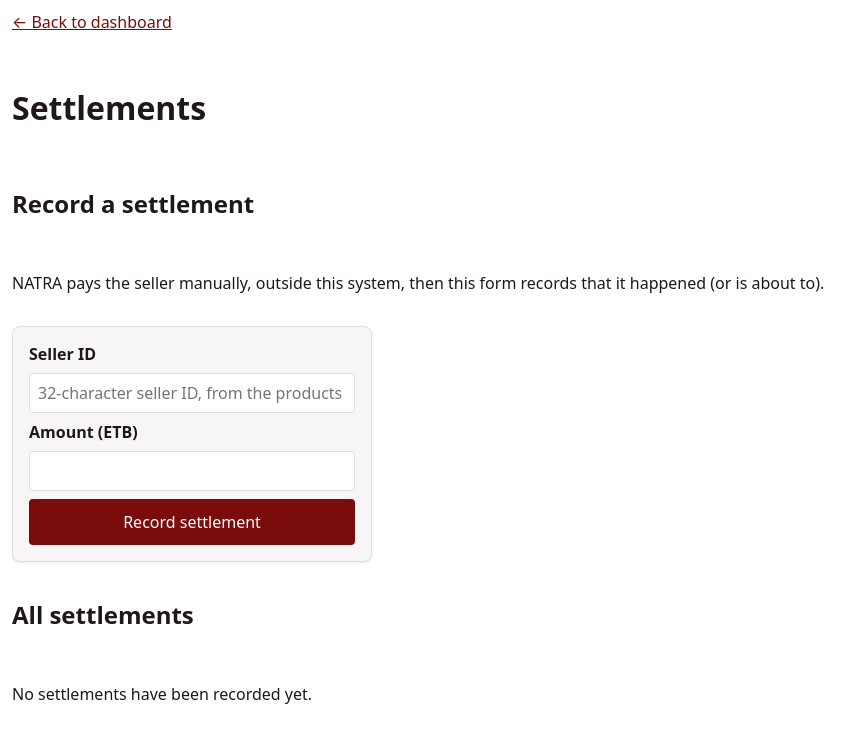
Test case: AdminSettlements › shows the backend's message when recording a settlement fails (non-auth error)
Expected: the text "No settlements have been recorded yet." is shown, 12,682 -> 312,704
Type "seller-1" into the field labelled "Seller ID". click: (192, 393)
box: 29,373 -> 355,413
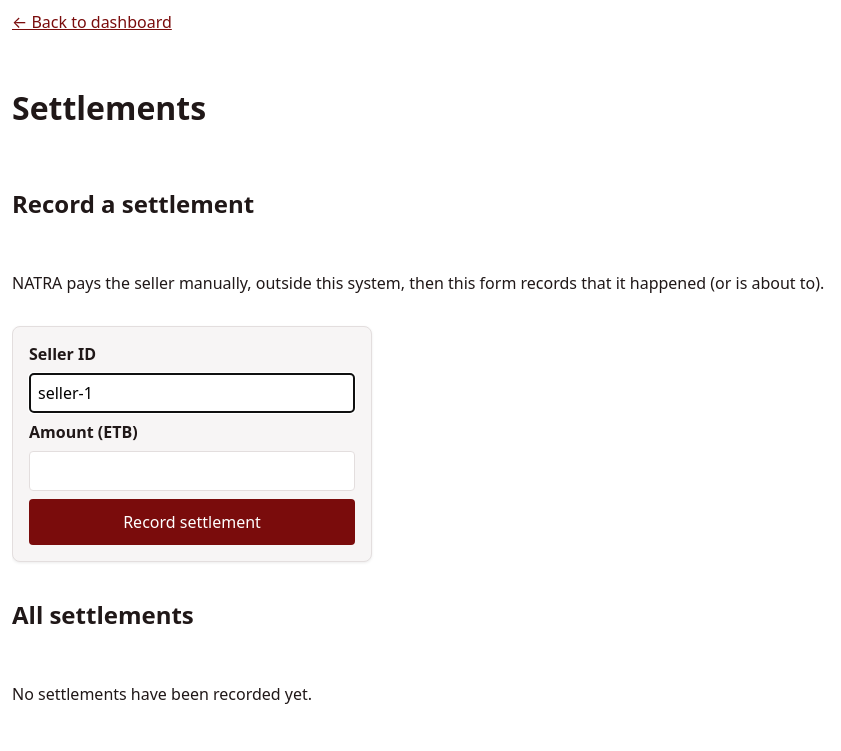
Type "450" into the number field labelled "Amount (ETB)". click: (192, 471)
box: 29,451 -> 355,491
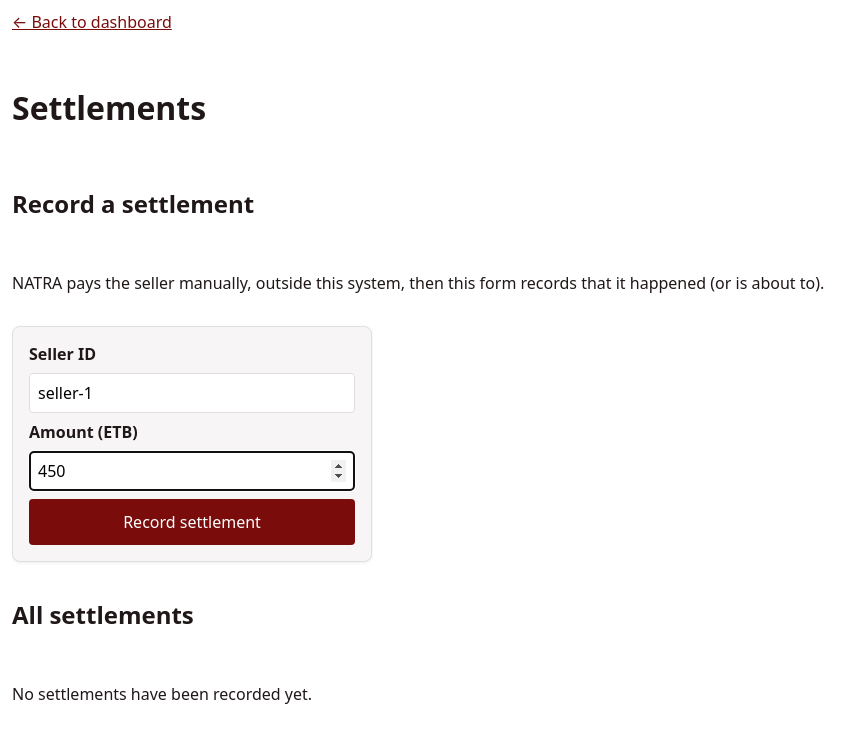
Click the button "Record settlement". click: (192, 522)
box: 29,499 -> 355,545
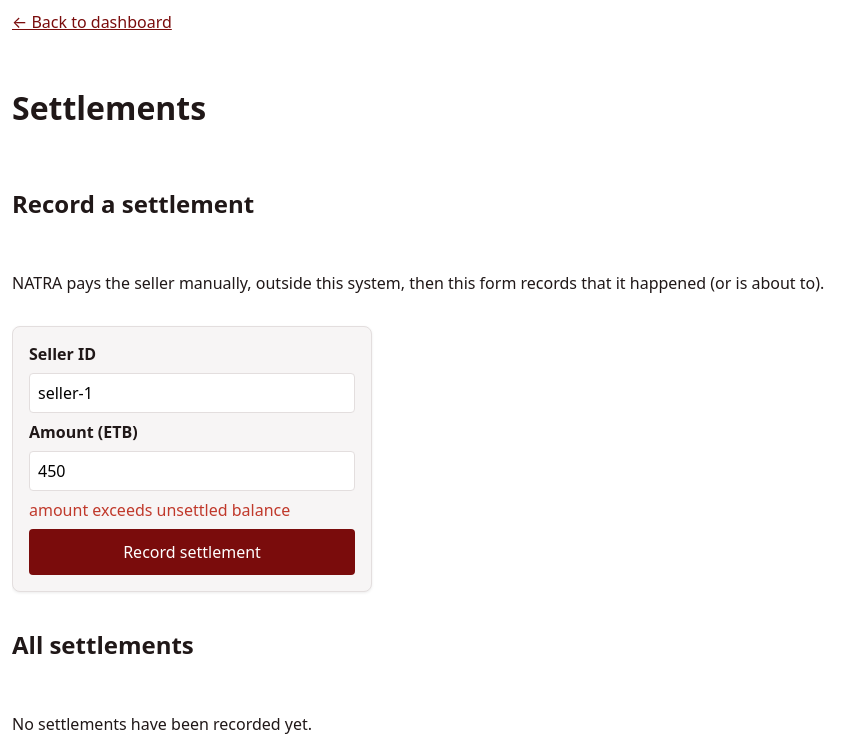
Now the message reads "amount exceeds unsettled balance", box 29,499 -> 290,521
